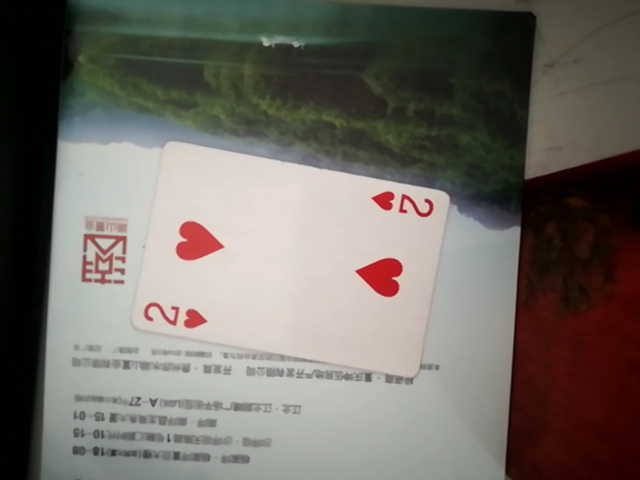hx 2: (90, 141, 457, 376)
